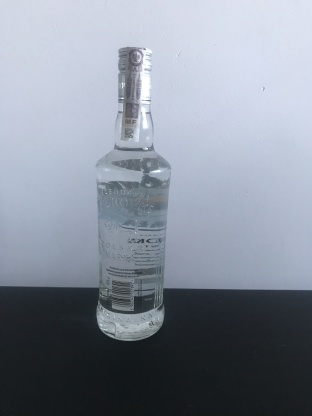nakretka: (115, 43, 154, 108)
